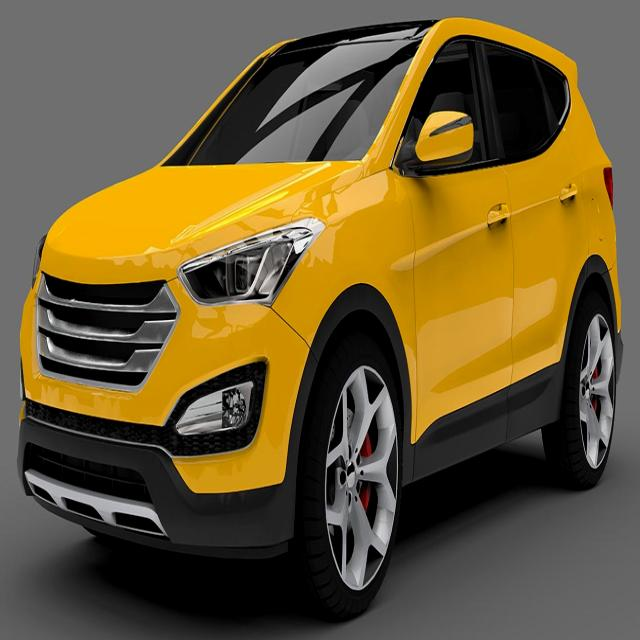SUV: (13, 21, 620, 628)
